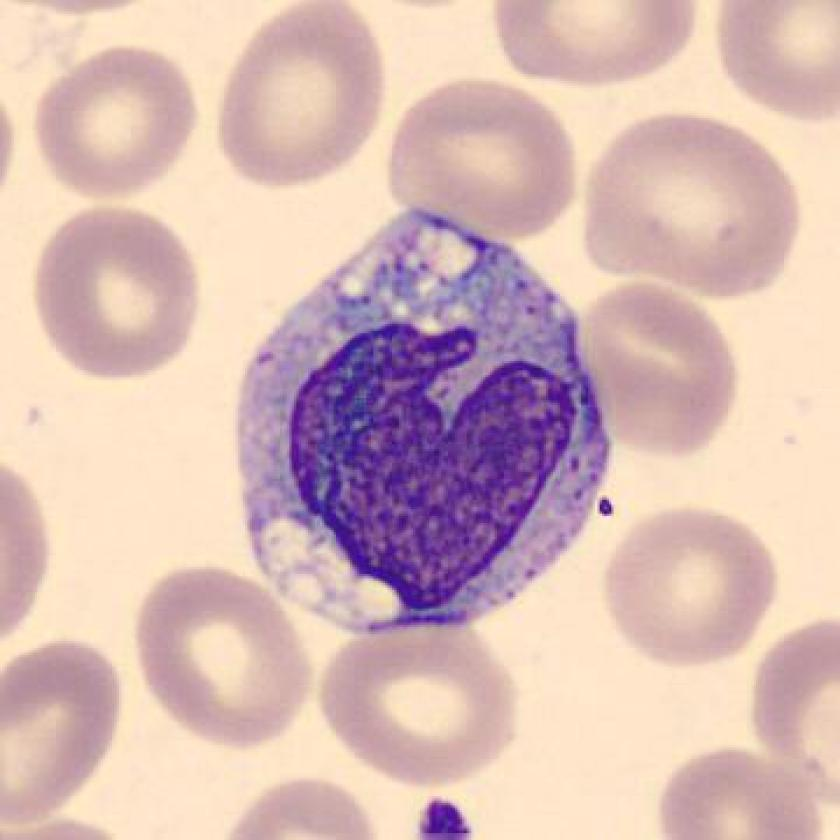monocyte: (218, 193, 633, 654)
